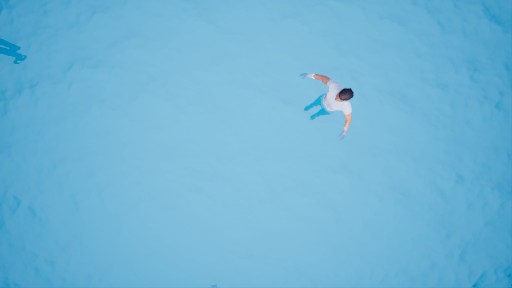person: (298, 71, 355, 140)
